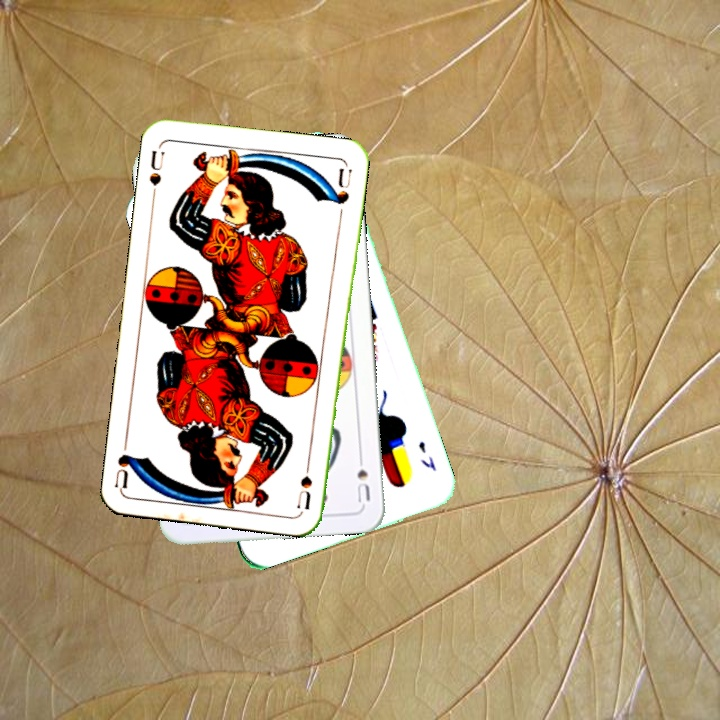EK: (414, 437, 439, 474)
SU: (293, 451, 315, 511), (353, 447, 373, 505), (145, 142, 167, 188)
